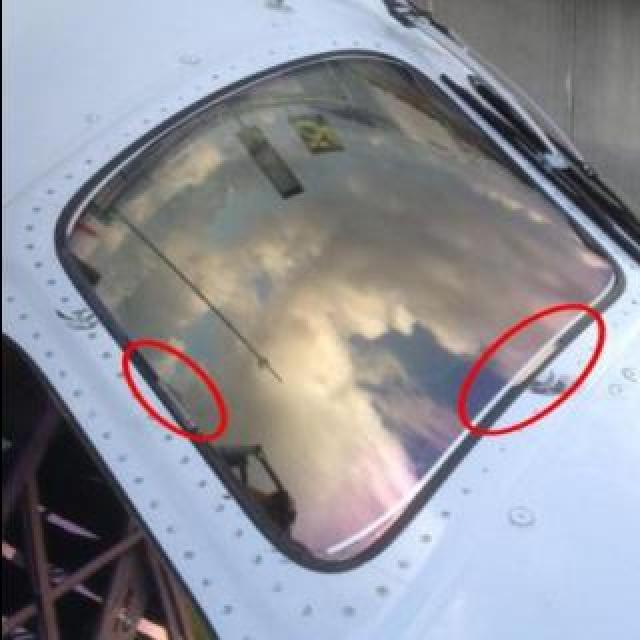crack: (529, 373, 569, 397)
